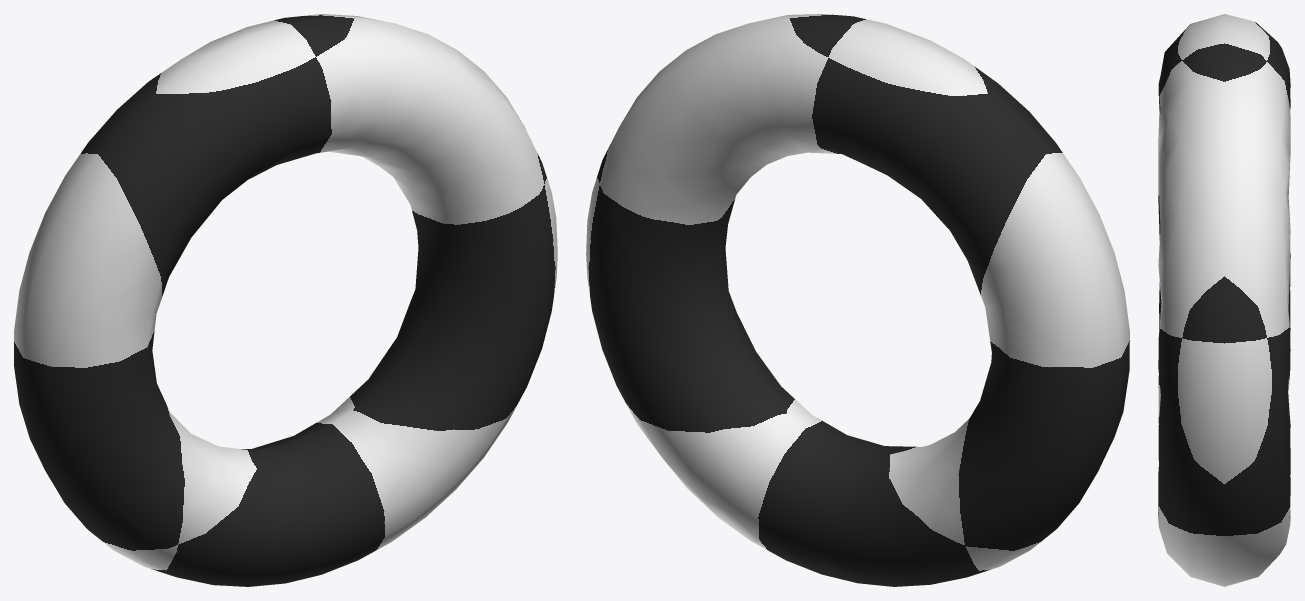
File: torus_R50mm_r15mm_heat_result.glb
3 views of the same model, side by side, from view 1: azimuth 30°, elevation 25°; view 2: azimuth 150°, elevation 25°; view 3: azimuth 270°, elevation 25° (orthographic). The views are drawn at different scales.
Bounding box in the file's own units: 130 × 130 × 30.
1 material, 1 textured.
